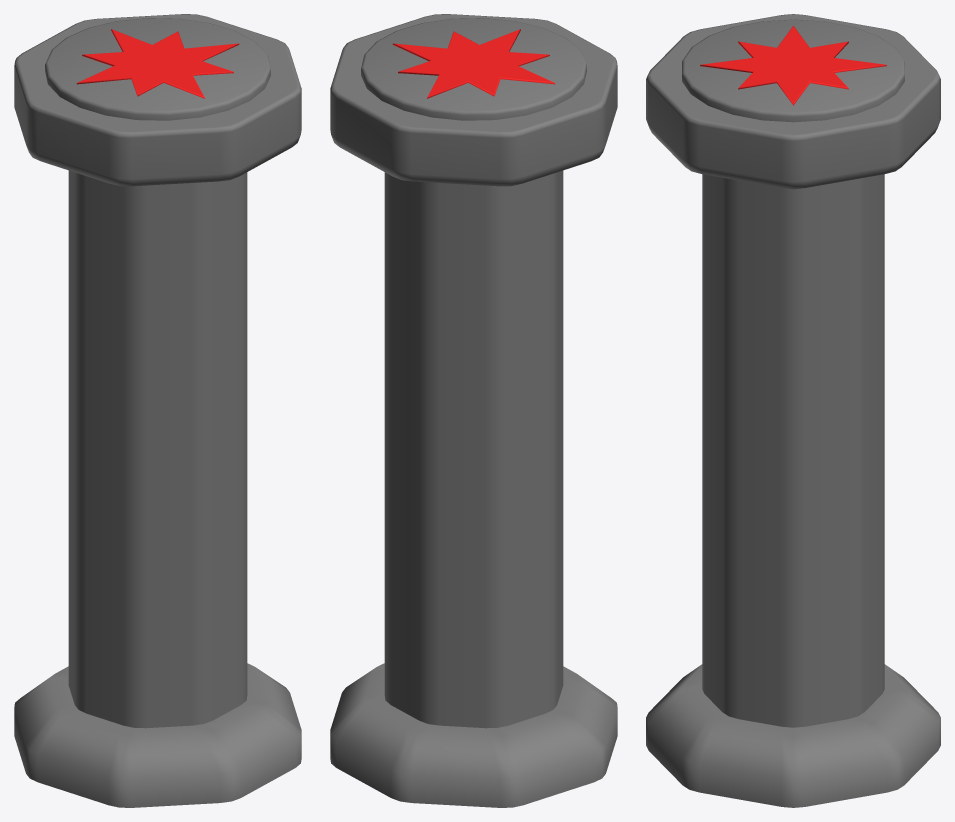
Rendered from SM_Compass.fbx.
3 renders of one model, left to right at view 1: azimuth 30°, elevation 25°; view 2: azimuth 150°, elevation 25°; view 3: azimuth 270°, elevation 25°, orthographic.
Parts seen in each view (by area): view 1: SM_Compass, SM_Compass_Directions; view 2: SM_Compass, SM_Compass_Directions; view 3: SM_Compass, SM_Compass_Directions.
Boxes of the visible parts, left/top/right/bottom form: SM_Compass: left=14, top=14, right=301, bottom=807; SM_Compass_Directions: left=76, top=29, right=239, bottom=98; SM_Compass: left=330, top=14, right=617, bottom=807; SM_Compass_Directions: left=392, top=29, right=555, bottom=98; SM_Compass: left=646, top=14, right=940, bottom=807; SM_Compass_Directions: left=700, top=26, right=886, bottom=105.
Size of the model in its own units: 47.22 by 120 by 47.22.
